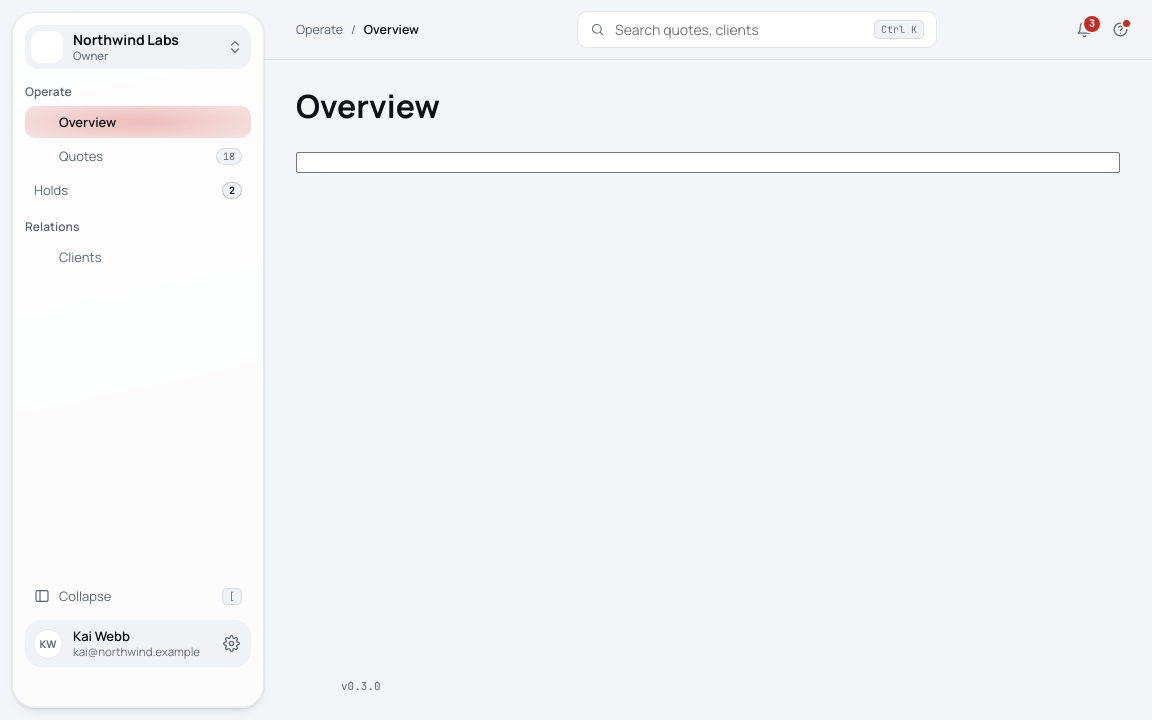
Test case: ConsoleShell › useWhatsNew: unread until opened, writes the seen key, Escape closes and returns focus to the opener
The width and height of the screenshot is (1152, 720).
Click the button named "Guides, What's new unread": (1120, 30) [1104, 14, 1136, 46]
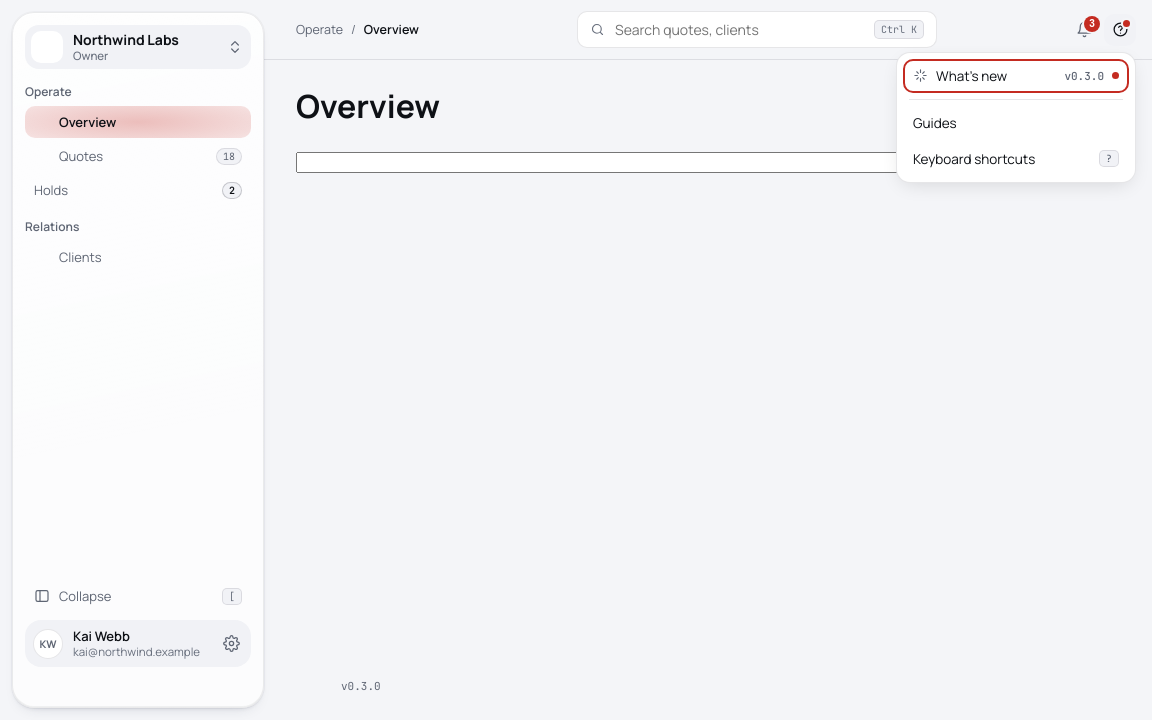
Click the menu item named "What's new v0.3.0 Unread": (1016, 76) [903, 58, 1129, 92]
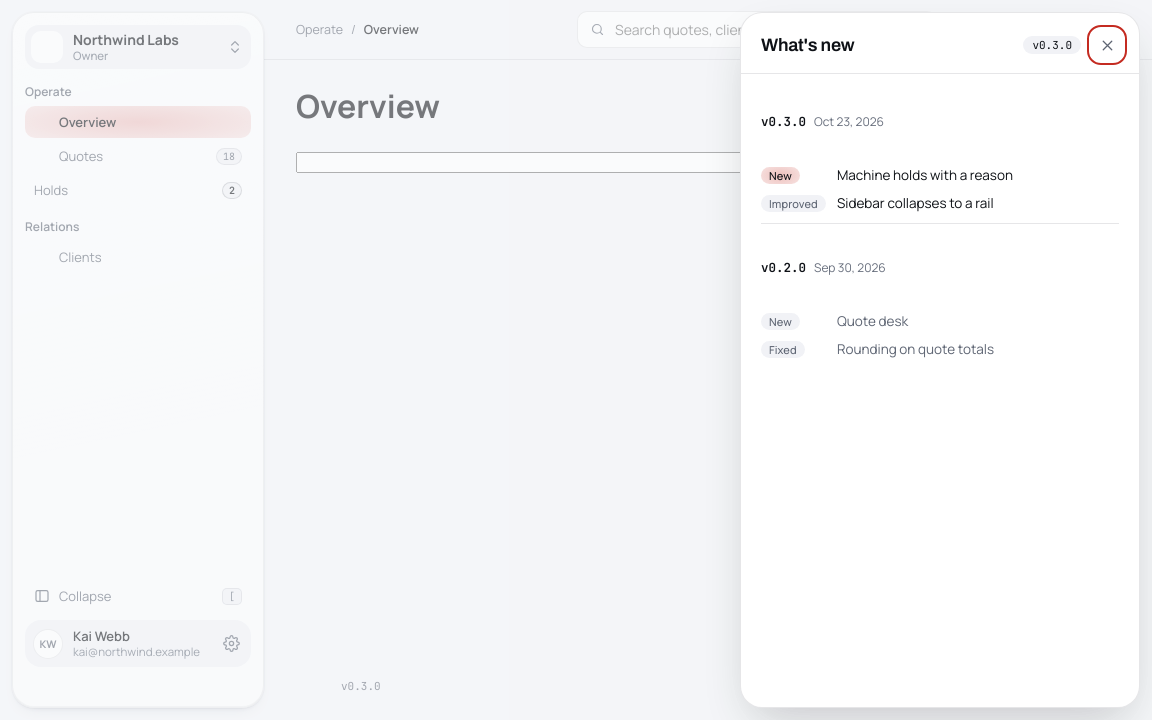
Check: the dialog "What's new" is shown, box [740, 12, 1140, 708]
Check: the element with class "dot" is gone
Press Escape in the button named "Close", box [1091, 29, 1123, 61]
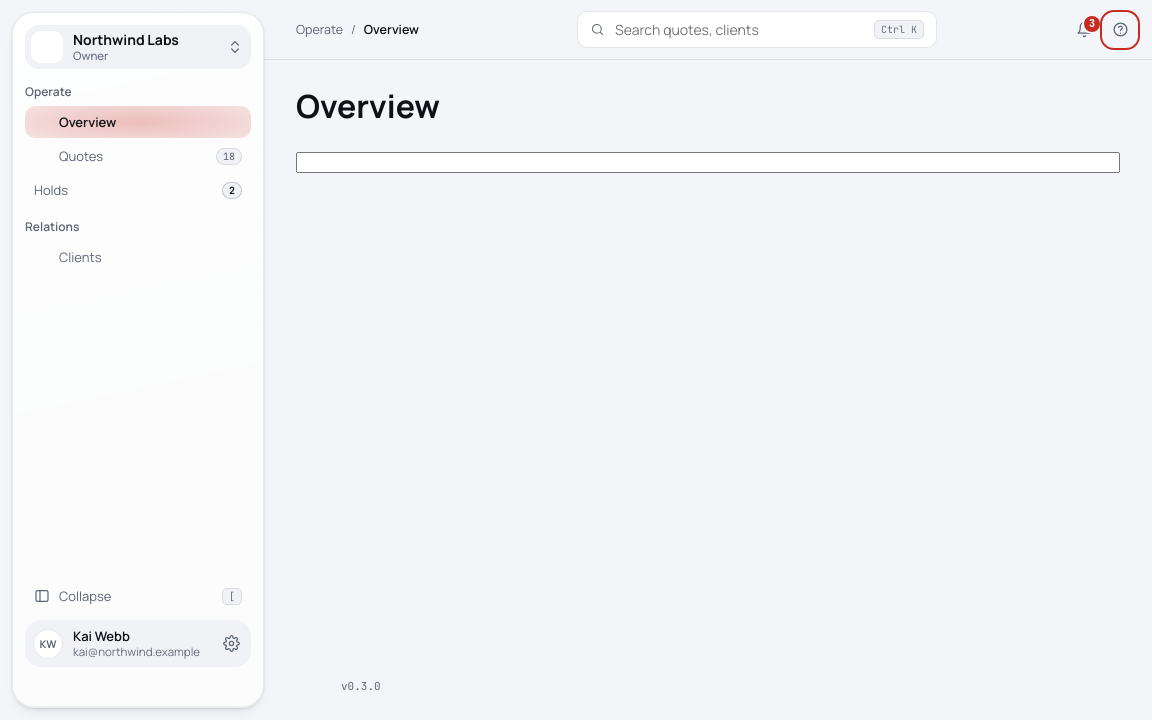
Check: the heading "What's new" is gone
